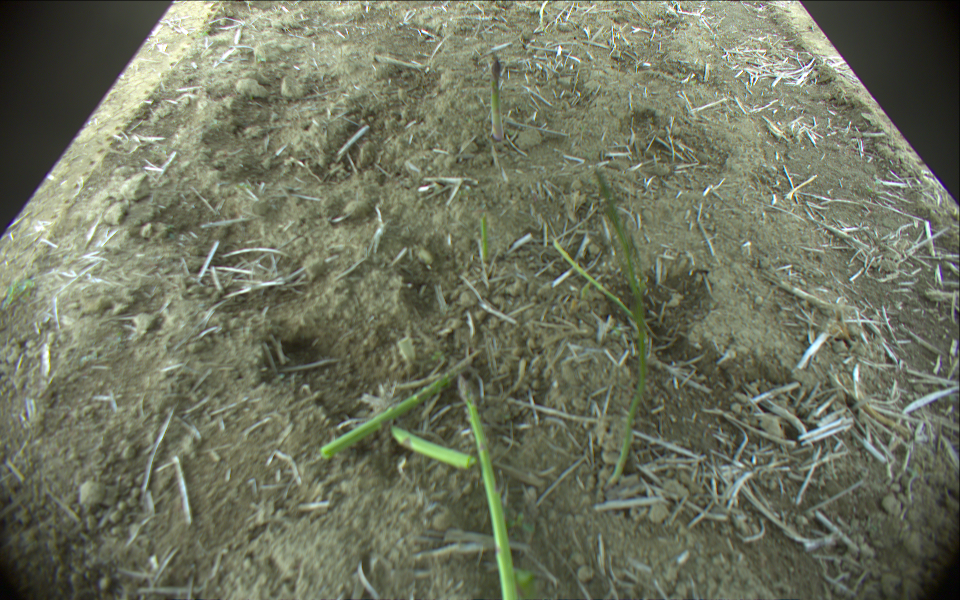aspa: (313, 351, 477, 461), (594, 171, 649, 484), (458, 376, 519, 600), (554, 239, 657, 339), (391, 427, 474, 469), (489, 56, 507, 142), (481, 212, 492, 265)
